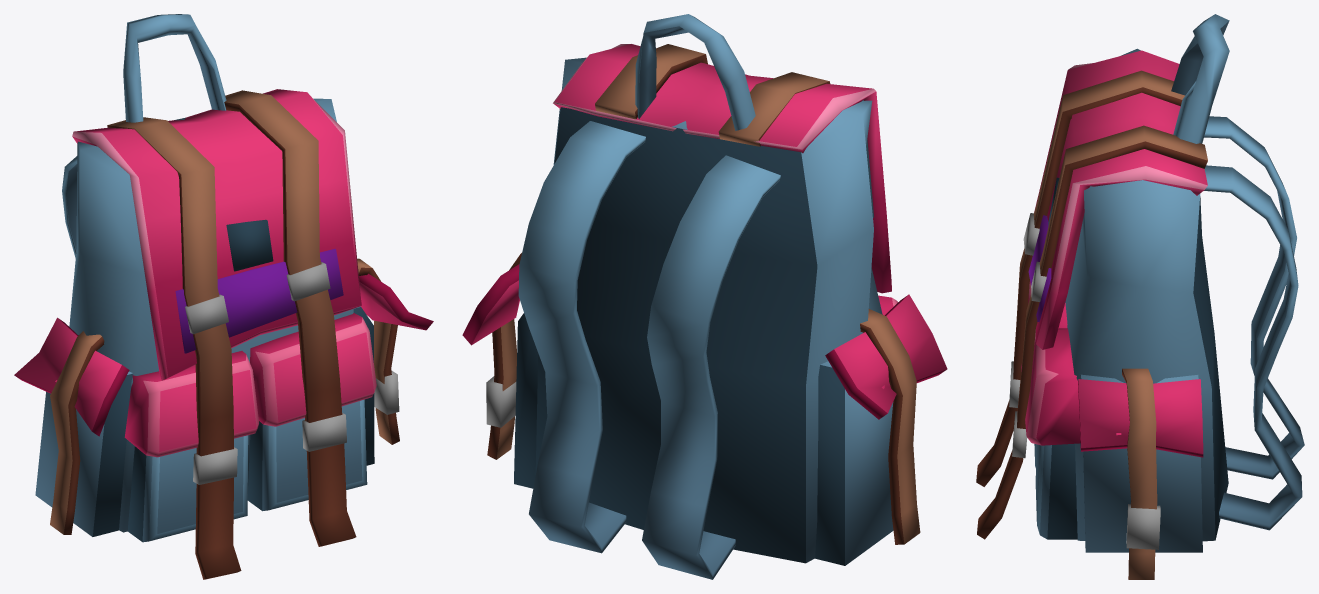
File: SM_BackPack_38.fbx
3 views of the same model, side by side, from view 1: azimuth 30°, elevation 25°; view 2: azimuth 150°, elevation 25°; view 3: azimuth 270°, elevation 25° (orthographic). The views are drawn at different scales.
Parts seen in each view (by area): view 1: SM_BackPack_38; view 2: SM_BackPack_38; view 3: SM_BackPack_38.
Part boxes in pixels (bbox=[...]): SM_BackPack_38: bbox=[14, 14, 433, 579]; SM_BackPack_38: bbox=[462, 14, 947, 579]; SM_BackPack_38: bbox=[976, 14, 1304, 579].
Size of the model in its own units: 117 by 141 by 87.51.
